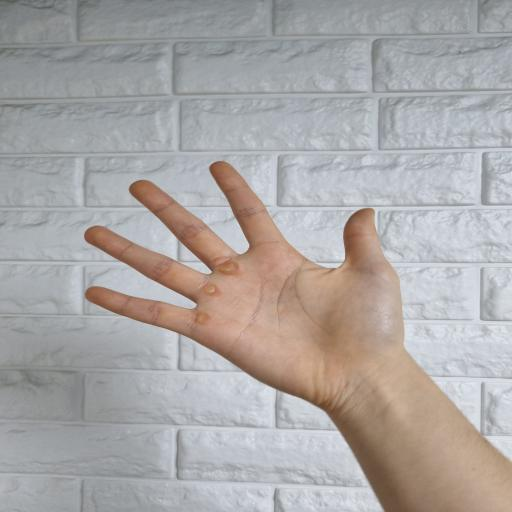Paper: (83, 162, 404, 408)
